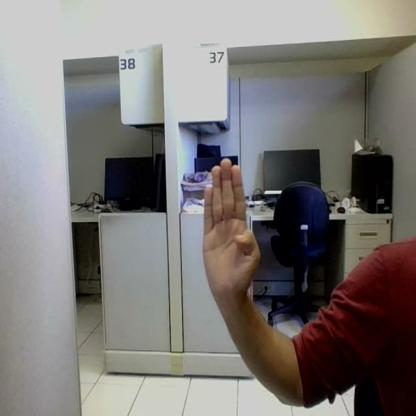B: (204, 158, 261, 292)
